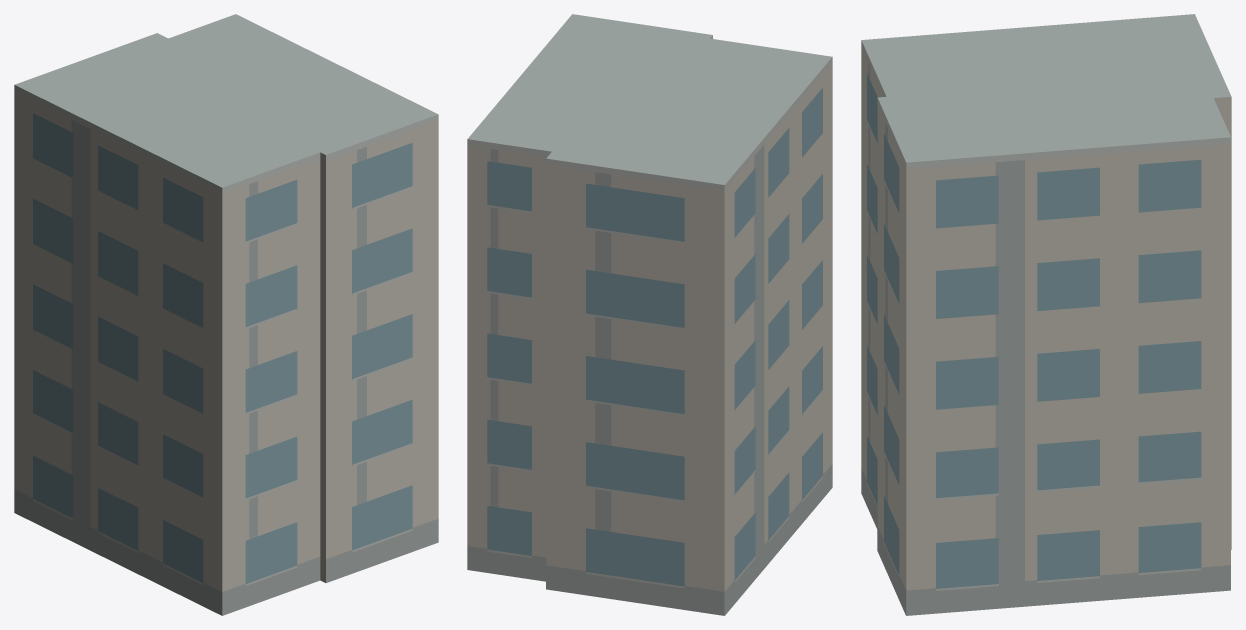
Rendered from survey-upis-32765603.glb.
3 renders of one model, left to right at view 1: azimuth 30°, elevation 25°; view 2: azimuth 150°, elevation 25°; view 3: azimuth 270°, elevation 25°, orthographic. The views are drawn at different scales.
Parts seen in each view (by area): view 1: survey-upis-32765603.tmp; view 2: survey-upis-32765603.tmp; view 3: survey-upis-32765603.tmp.
Part boxes in pixels (x1,y1,x2,y2): survey-upis-32765603.tmp: (14,14,438,615); survey-upis-32765603.tmp: (467,14,832,615); survey-upis-32765603.tmp: (861,14,1231,615).
Size of the model in its own units: 11.62 by 16.5 by 12.23.
